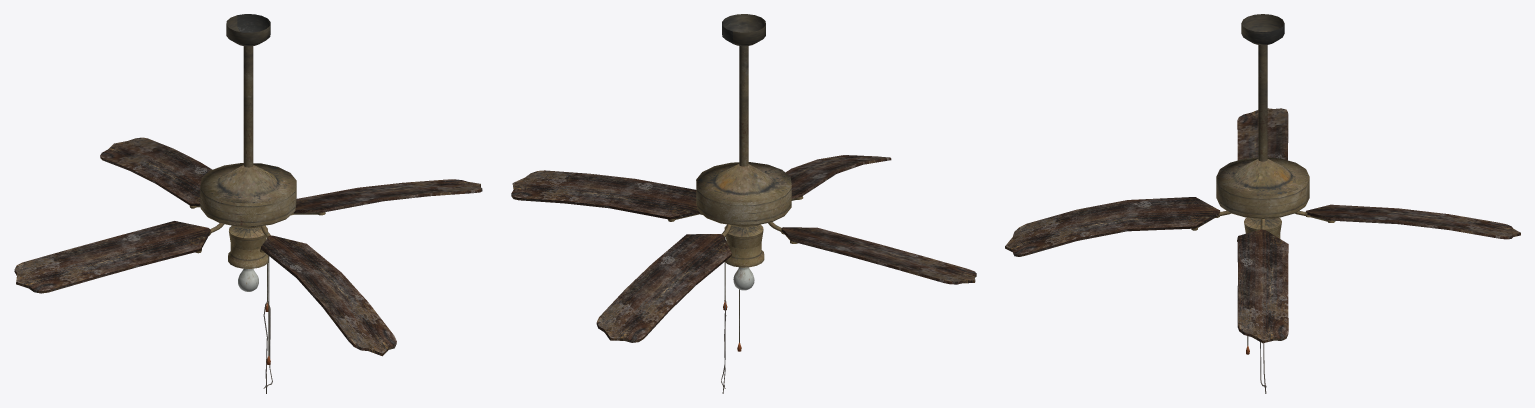
The model's file is ceilingfan01a.obj.
3 renders of one model, left to right at view 1: azimuth 30°, elevation 25°; view 2: azimuth 150°, elevation 25°; view 3: azimuth 270°, elevation 25°, orthographic. The views are drawn at different scales.
Parts seen in each view (by area): view 1: LODGroup_1_MainMesh_2_Submesh_1, LODGroup_1_MainMesh_1_Submesh_1, LODGroup_1_MainMesh_1_Submesh_2, LODGroup_1_MainMesh_3_Submesh_3; view 2: LODGroup_1_MainMesh_2_Submesh_1, LODGroup_1_MainMesh_1_Submesh_1, LODGroup_1_MainMesh_3_Submesh_3; view 3: LODGroup_1_MainMesh_2_Submesh_1, LODGroup_1_MainMesh_1_Submesh_1.
Part boxes in pixels (<box>): LODGroup_1_MainMesh_2_Submesh_1: <box>14,137,482,356</box>; LODGroup_1_MainMesh_1_Submesh_1: <box>200,14,296,268</box>; LODGroup_1_MainMesh_1_Submesh_2: <box>263,238,272,393</box>; LODGroup_1_MainMesh_3_Submesh_3: <box>238,268,258,291</box>; LODGroup_1_MainMesh_2_Submesh_1: <box>511,155,976,342</box>; LODGroup_1_MainMesh_1_Submesh_1: <box>696,14,791,267</box>; LODGroup_1_MainMesh_3_Submesh_3: <box>733,267,754,290</box>; LODGroup_1_MainMesh_2_Submesh_1: <box>1005,108,1520,343</box>; LODGroup_1_MainMesh_1_Submesh_1: <box>1216,14,1309,238</box>.
Size of the model in its own units: 209 by 162 by 209.
3 materials, 3 textured.
